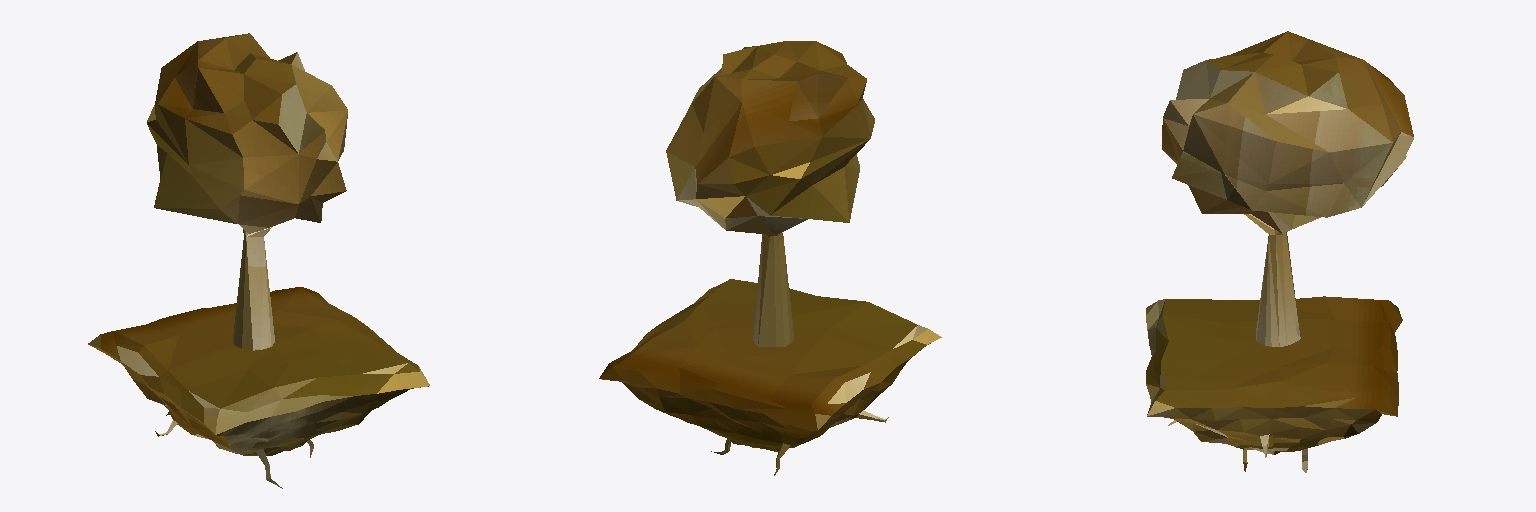
3 views of the same model, side by side, from view 1: azimuth 30°, elevation 25°; view 2: azimuth 150°, elevation 25°; view 3: azimuth 270°, elevation 25° (orthographic).
Visible parts, largest first — view 1: Cylinder.001_Cylinder.000; view 2: Cylinder.001_Cylinder.000; view 3: Cylinder.001_Cylinder.000.
Part boxes in pixels (left/top/right/bottom): Cylinder.001_Cylinder.000: left=88, top=33, right=429, bottom=488; Cylinder.001_Cylinder.000: left=599, top=41, right=941, bottom=475; Cylinder.001_Cylinder.000: left=1146, top=31, right=1413, bottom=472.
Bounding box in the file's own units: 2.06 × 3.52 × 2.15.
3 materials, 1 textured.